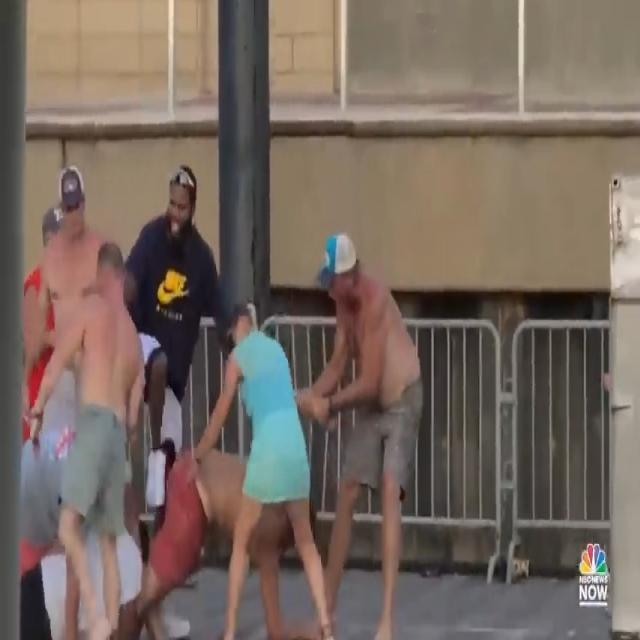fight: (0, 145, 434, 640)
